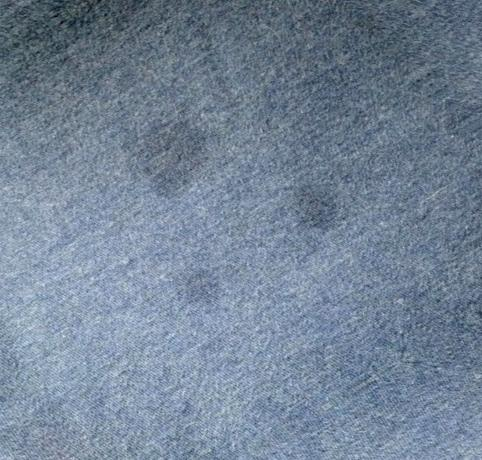stain: (137, 118, 214, 201), (290, 181, 347, 244), (175, 264, 228, 309)
